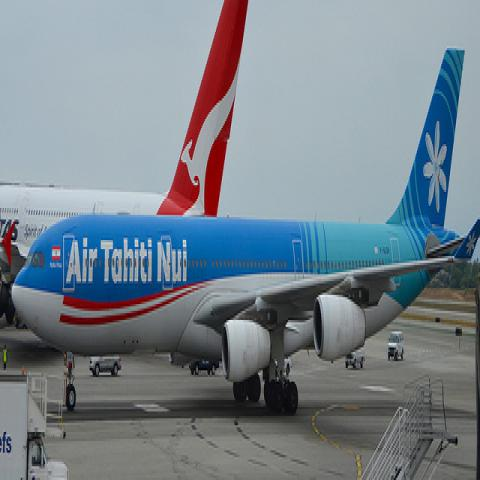car: (90, 355, 123, 380), (190, 358, 220, 376)
truck: (0, 367, 69, 480), (346, 338, 366, 371), (388, 330, 404, 362)
